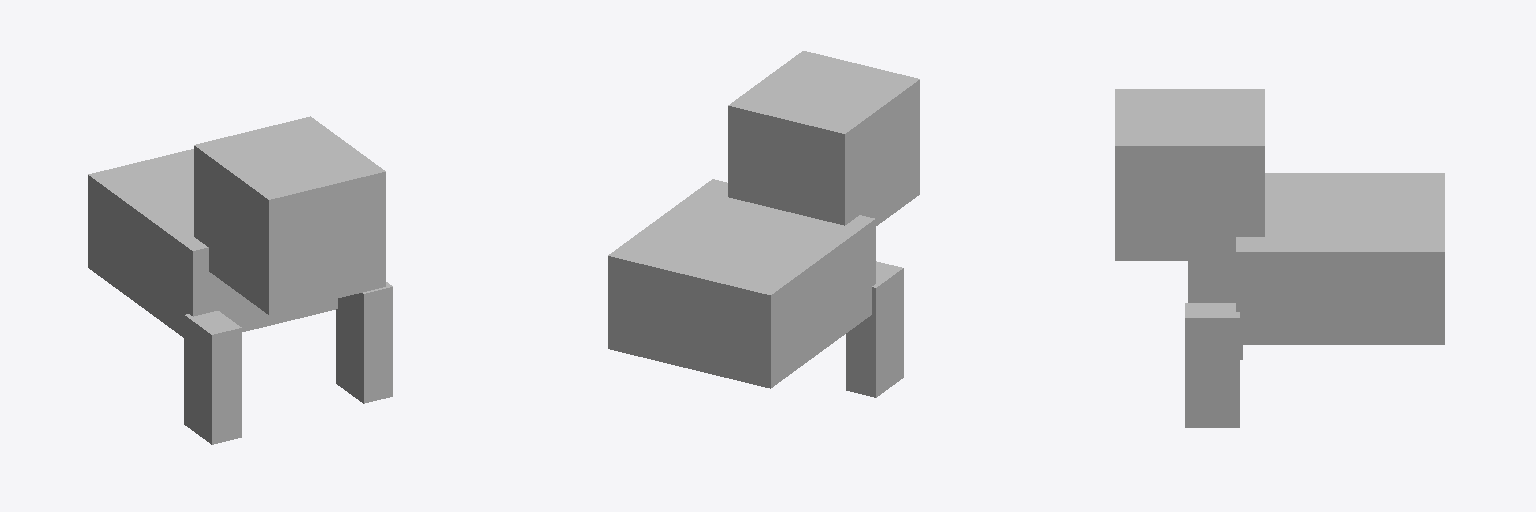
Rendered from cat.obj.
The picture shows the model from 3 angles: view 1: azimuth 30°, elevation 25°; view 2: azimuth 150°, elevation 25°; view 3: azimuth 270°, elevation 25°; orthographic projection.
Visible parts, largest first — view 1: Cube.001; view 2: Cube.001; view 3: Cube.001.
Boxes of the visible parts, box(x1,y1,x2,y2) form: Cube.001: box(88, 116, 392, 444); Cube.001: box(608, 51, 919, 397); Cube.001: box(1115, 89, 1444, 427).
Size of the model in its own units: 1.16 by 1.64 by 1.85.